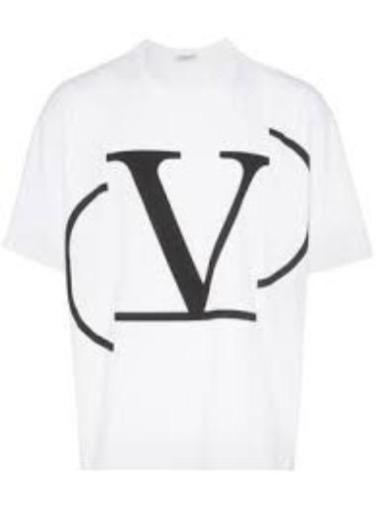VALENTINO: (90, 141, 293, 331)
